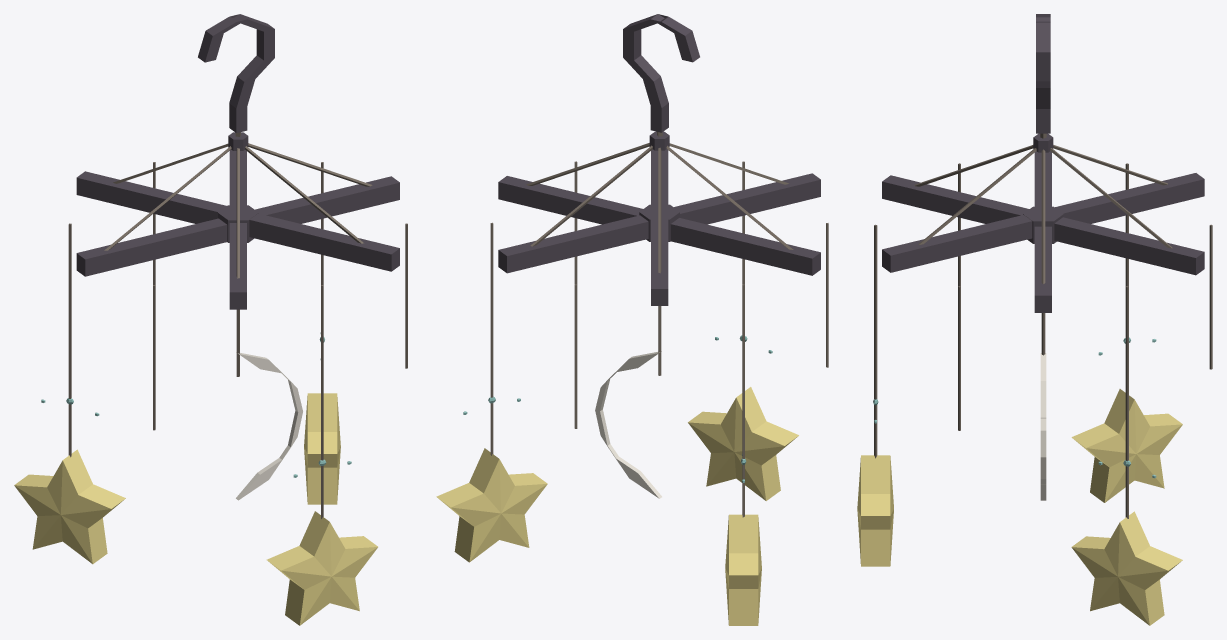
File: movil_colgante.glb
3 renders of one model, left to right at view 1: azimuth 30°, elevation 25°; view 2: azimuth 150°, elevation 25°; view 3: azimuth 270°, elevation 25°, orthographic.
Parts seen in each view (by area): view 1: Mobile_Frame, Mobile_Stars, Mobile_Moon; view 2: Mobile_Frame, Mobile_Stars, Mobile_Moon; view 3: Mobile_Frame, Mobile_Stars, Mobile_Moon.
Boxes of the visible parts, x1,y1,x2,y2 form: Mobile_Frame: (68,14,407,518); Mobile_Stars: (14,393,377,625); Mobile_Moon: (236,352,302,500); Mobile_Frame: (490,14,828,517); Mobile_Stars: (436,387,798,625); Mobile_Moon: (595,351,661,498); Mobile_Frame: (874,14,1212,518); Mobile_Stars: (857,389,1182,625); Mobile_Moon: (1040,353,1046,500).
Size of the model in its own units: 0.8208 by 1.3 by 0.7841.
